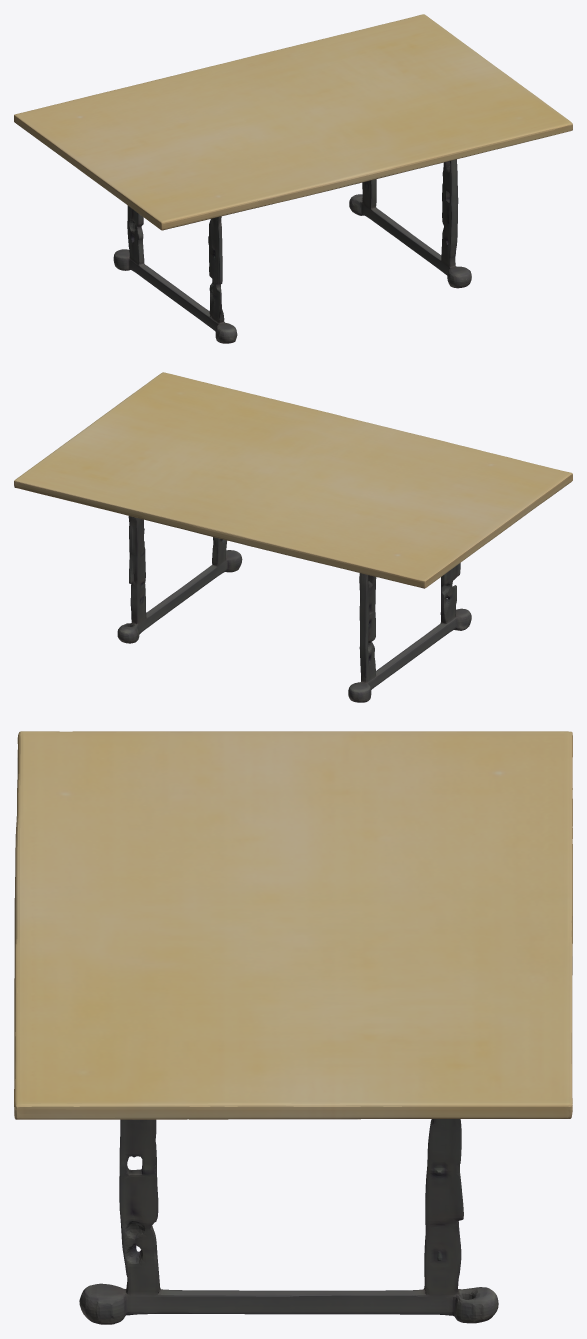
File: multidiffusion_sam3d.glb
3 renders of one model, top to bottom at view 1: azimuth 30°, elevation 25°; view 2: azimuth 150°, elevation 25°; view 3: azimuth 270°, elevation 25°, orthographic. The views are drawn at different scales.
Parts seen in each view (by area): view 1: world; view 2: world; view 3: world.
Part boxes in pixels (<box>): world: <box>14,14,572,343</box>; world: <box>14,372,572,702</box>; world: <box>14,731,572,1324</box>.
Size of the model in its own units: 1 by 0.369 by 0.6297.
